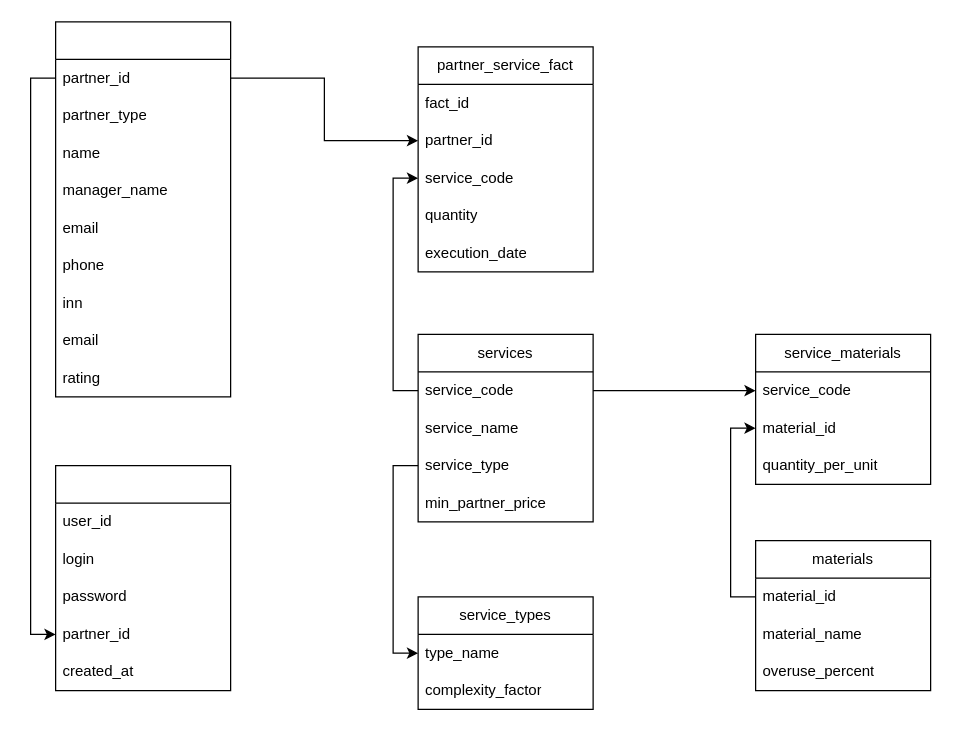
This 953x731 diagram has some shape labels left out. Each missing label, with the box of its shape:
partners: (54, 21, 231, 397)
users: (54, 464, 231, 691)
